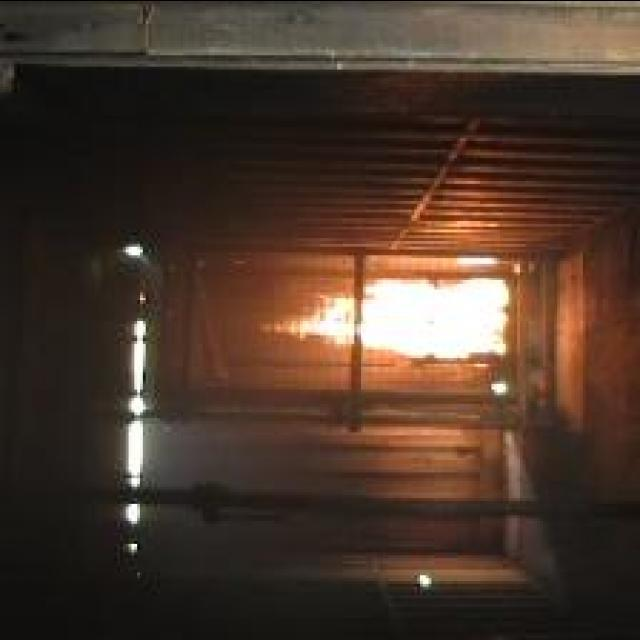Fire: (262, 277, 508, 357)
